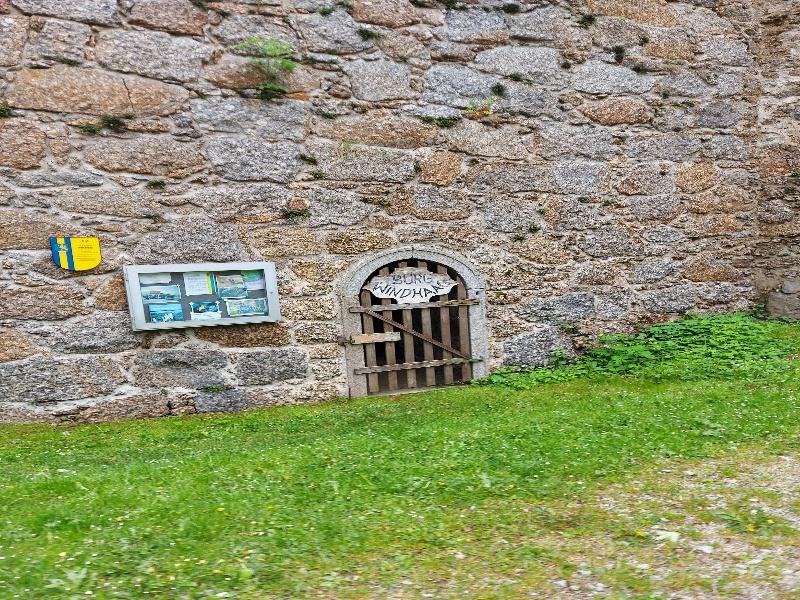dungeon: (328, 242, 499, 397)
